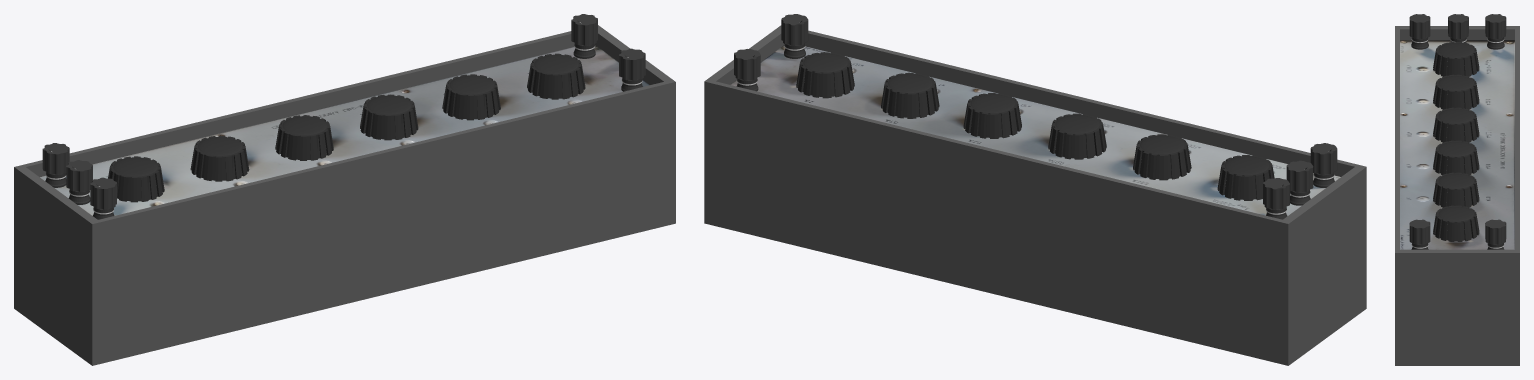
Rendered from OpornikDekadowy.fbx.
The picture shows the model from 3 angles, left to right: view 1: azimuth 30°, elevation 25°; view 2: azimuth 150°, elevation 25°; view 3: azimuth 270°, elevation 25°; orthographic projection. The views are drawn at different scales.
Parts seen in each view (by area): view 1: Cube; view 2: Cube; view 3: Cube.
Part boxes in pixels (x1,y1,x2,y2): Cube: (14, 14, 675, 365); Cube: (704, 14, 1366, 365); Cube: (1395, 14, 1519, 365).
Bounding box in the file's own units: 56 × 15.09 × 13.
Materials: 8 (1 with a texture image).
